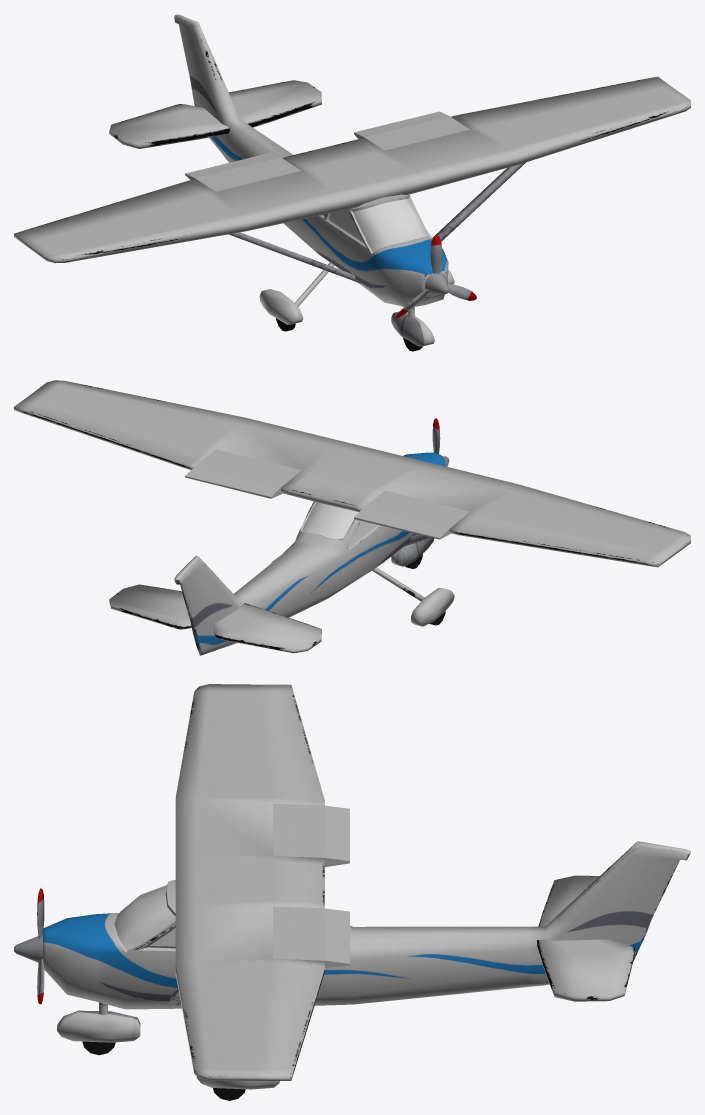
The model's file is ClearedSmallPassengerPlane.fbx.
3 views of the same model, one above another, from view 1: azimuth 30°, elevation 25°; view 2: azimuth 150°, elevation 25°; view 3: azimuth 270°, elevation 25° (orthographic). The views are drawn at different scales.
Visible parts, largest first — view 1: Cessna_Wings, Cessna_Body, Cessna_TailWing_R, Cessna_TailWing_L, Cessna_WheelStruts, Cessna_ControlSurface_L, Cessna_ControlSurface_R, Cessna_Propeller; view 2: Cessna_Wings, Cessna_Body, Cessna_TailWing_R, Cessna_ControlSurface_L, Cessna_ControlSurface_R, Cessna_TailWing_L, Cessna_WheelStruts; view 3: Cessna_Wings, Cessna_Body, Cessna_TailWing_L, Cessna_ControlSurface_R, Cessna_ControlSurface_L, Cessna_WheelStruts, Cessna_TailWing_R, Cessna_Propeller.
Part boxes in pixels (left/top/right/bottom): Cessna_Wings: left=14, top=76, right=690, bottom=283; Cessna_Body: left=174, top=14, right=448, bottom=306; Cessna_TailWing_R: left=109, top=104, right=229, bottom=148; Cessna_TailWing_L: left=229, top=80, right=321, bottom=127; Cessna_WheelStruts: left=259, top=262, right=454, bottom=346; Cessna_ControlSurface_L: left=354, top=111, right=469, bottom=150; Cessna_ControlSurface_R: left=185, top=152, right=300, bottom=191; Cessna_Propeller: left=396, top=235, right=476, bottom=318; Cessna_Wings: left=14, top=380, right=690, bottom=567; Cessna_Body: left=174, top=452, right=447, bottom=655; Cessna_TailWing_R: left=213, top=603, right=321, bottom=653; Cessna_ControlSurface_L: left=185, top=449, right=301, bottom=498; Cessna_ControlSurface_R: left=354, top=490, right=469, bottom=539; Cessna_TailWing_L: left=109, top=584, right=191, bottom=629; Cessna_WheelStruts: left=271, top=537, right=454, bottom=626; Cessna_Wings: left=168, top=684, right=324, bottom=1080; Cessna_Body: left=43, top=841, right=690, bottom=1009; Cessna_TailWing_L: left=537, top=939, right=634, bottom=1001; Cessna_ControlSurface_R: left=273, top=803, right=349, bottom=866; Cessna_ControlSurface_L: left=273, top=906, right=349, bottom=967; Cessna_WheelStruts: left=57, top=1002, right=279, bottom=1089; Cessna_TailWing_R: left=538, top=875, right=599, bottom=926; Cessna_Propeller: left=14, top=888, right=44, bottom=1004.
Bounding box in the file's own units: 1096 × 276 × 800.
